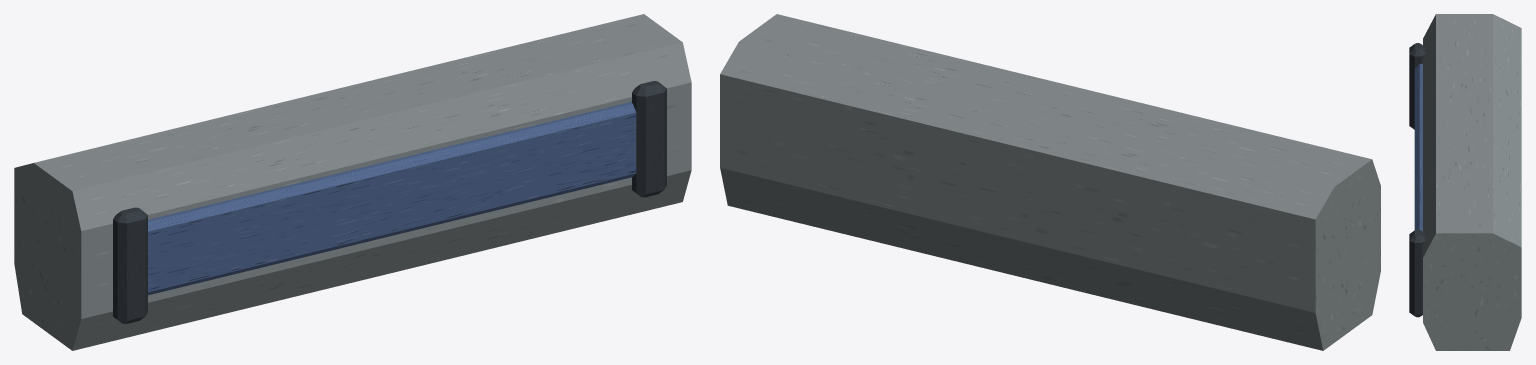
File: DockEdge4m.fbx
3 views of the same model, side by side, from view 1: azimuth 30°, elevation 25°; view 2: azimuth 150°, elevation 25°; view 3: azimuth 270°, elevation 25° (orthographic). The views are drawn at different scales.
Parts seen in each view (by area): view 1: DockEdge4m; view 2: DockEdge4m; view 3: DockEdge4m.
Part boxes in pixels (left/top/right/bottom): DockEdge4m: left=14, top=14, right=691, bottom=350; DockEdge4m: left=720, top=14, right=1380, bottom=350; DockEdge4m: left=1409, top=14, right=1521, bottom=350.
Size of the model in its own units: 400 by 100 by 86.5.
